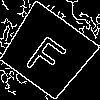F: (22, 26, 74, 82)
